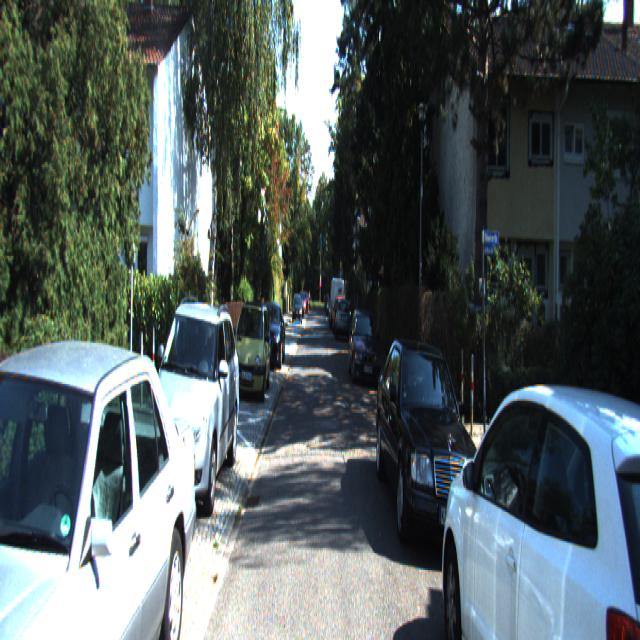Car: (0, 319, 205, 638), (438, 360, 639, 638), (374, 332, 492, 583), (133, 298, 241, 526), (231, 296, 271, 400), (348, 305, 382, 384), (256, 300, 285, 370), (331, 276, 345, 330), (336, 297, 350, 341)
